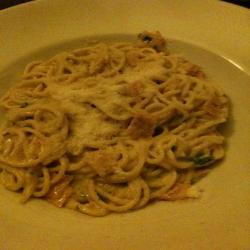carbonara: (6, 36, 241, 227)
